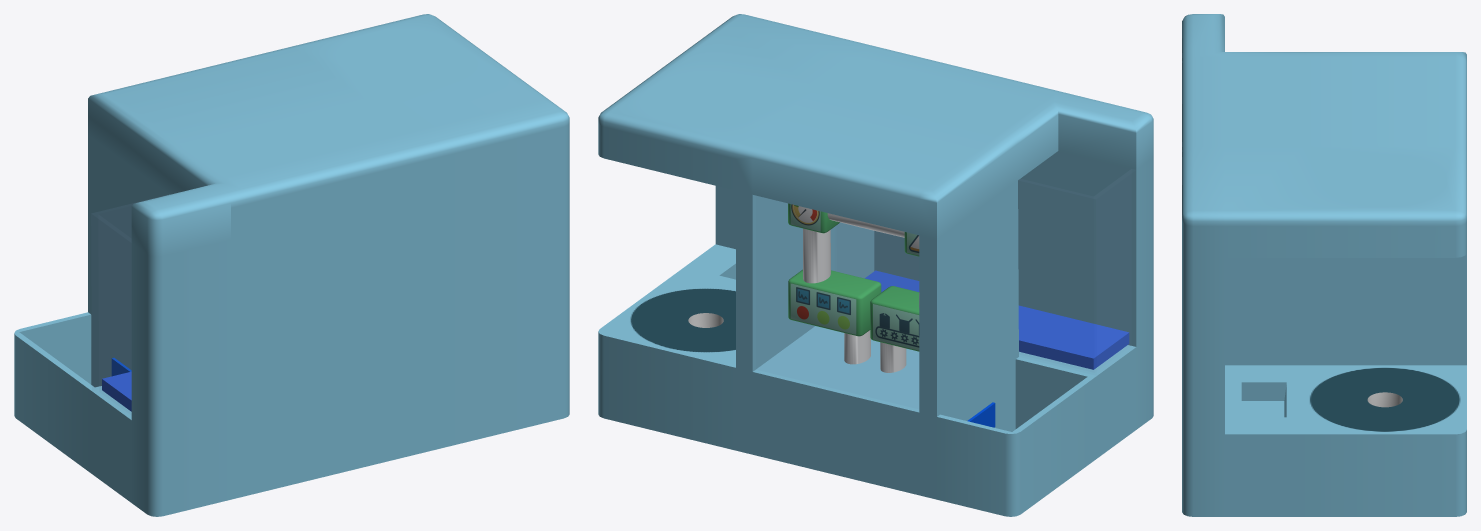
The model's file is FertilizerStation.fbx.
3 views of the same model, side by side, from view 1: azimuth 30°, elevation 25°; view 2: azimuth 150°, elevation 25°; view 3: azimuth 270°, elevation 25° (orthographic).
Parts seen in each view (by area): view 1: VacuumStation; view 2: VacuumStation; view 3: VacuumStation.
Boxes of the visible parts, bbox=[...] form: VacuumStation: bbox=[14, 14, 569, 516]; VacuumStation: bbox=[598, 14, 1153, 516]; VacuumStation: bbox=[1182, 14, 1466, 516].
Bounding box in the file's own units: 216 × 148 × 127.
